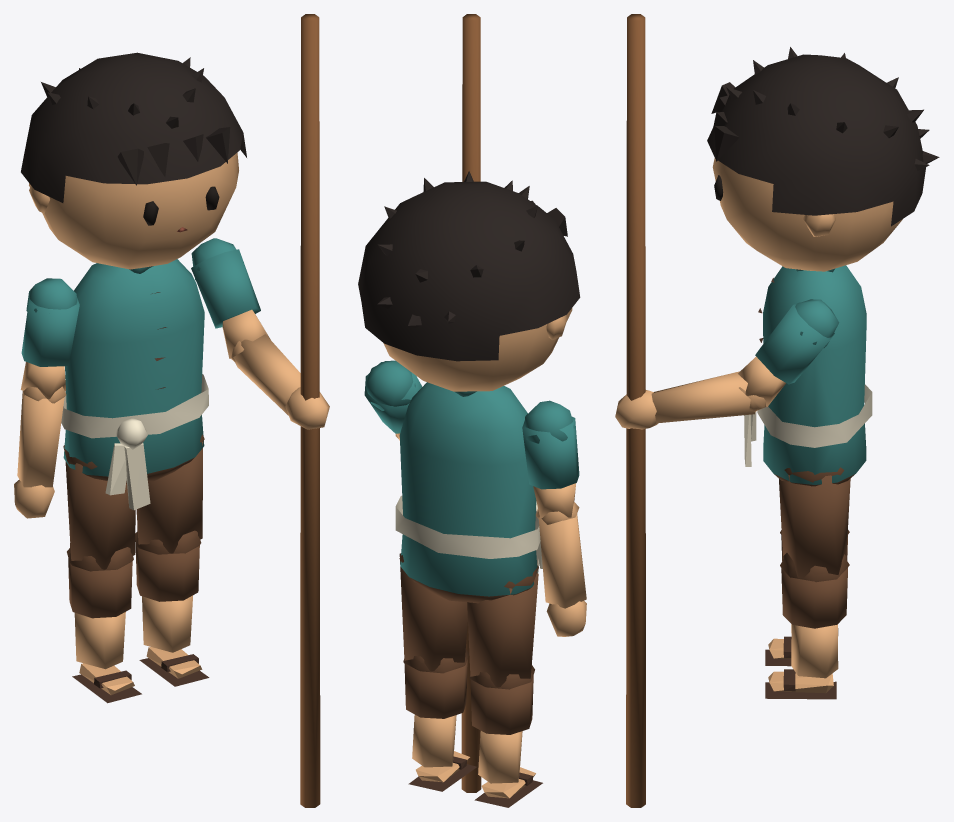
The model's file is central_pole_boatman.glb.
The picture shows the model from 3 angles, left to right: view 1: azimuth 30°, elevation 25°; view 2: azimuth 150°, elevation 25°; view 3: azimuth 270°, elevation 25°; orthographic projection.
Visible parts, largest first — view 1: head, body, prop_pole, shin_R, shin_L, leg_R, arm_R, arm_L, leg_L, forearm_R, forearm_L; view 2: head, body, shin_L, shin_R, leg_R, arm_R, leg_L, prop_pole, forearm_R, arm_L; view 3: head, body, prop_pole, shin_L, leg_L, arm_L, forearm_L, shin_R.
Part boxes in pixels (x1=…): head: x1=21, y1=52, x2=246, y2=269; body: x1=61, y1=259, x2=208, y2=510; prop_pole: x1=300, y1=14, x2=320, y2=807; shin_R: x1=68, y1=543, x2=141, y2=703; shin_L: x1=135, y1=526, x2=209, y2=686; leg_R: x1=63, y1=445, x2=135, y2=571; arm_R: x1=20, y1=278, x2=79, y2=403; arm_L: x1=191, y1=238, x2=270, y2=361; leg_L: x1=135, y1=434, x2=204, y2=554; forearm_R: x1=14, y1=387, x2=64, y2=518; forearm_L: x1=231, y1=334, x2=329, y2=429; head: x1=358, y1=171, x2=580, y2=391; body: x1=395, y1=382, x2=542, y2=603; shin_L: x1=404, y1=648, x2=476, y2=791; shin_R: x1=470, y1=665, x2=542, y2=807; leg_R: x1=467, y1=565, x2=538, y2=689; arm_R: x1=522, y1=400, x2=579, y2=524; leg_L: x1=399, y1=553, x2=468, y2=673; prop_pole: x1=461, y1=14, x2=481, y2=792; forearm_R: x1=538, y1=509, x2=586, y2=636; arm_L: x1=364, y1=360, x2=422, y2=440; head: x1=707, y1=47, x2=939, y2=271; body: x1=744, y1=265, x2=872, y2=486; prop_pole: x1=626, y1=14, x2=645, y2=807; shin_L: x1=765, y1=553, x2=847, y2=699; leg_L: x1=779, y1=467, x2=850, y2=582; arm_L: x1=738, y1=299, x2=839, y2=410; forearm_L: x1=615, y1=371, x2=764, y2=429; shin_R: x1=765, y1=535, x2=847, y2=666.
Bounding box in the file's own units: 0.571 × 1.9 × 0.7103.
